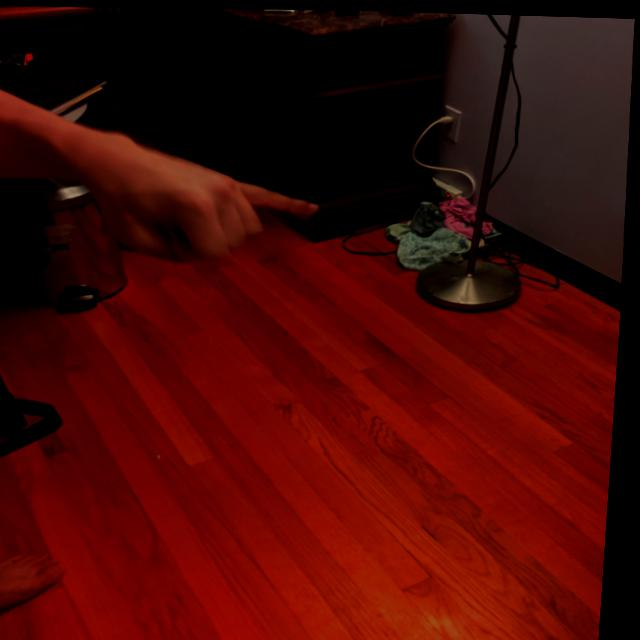J: (65, 117, 332, 278)
